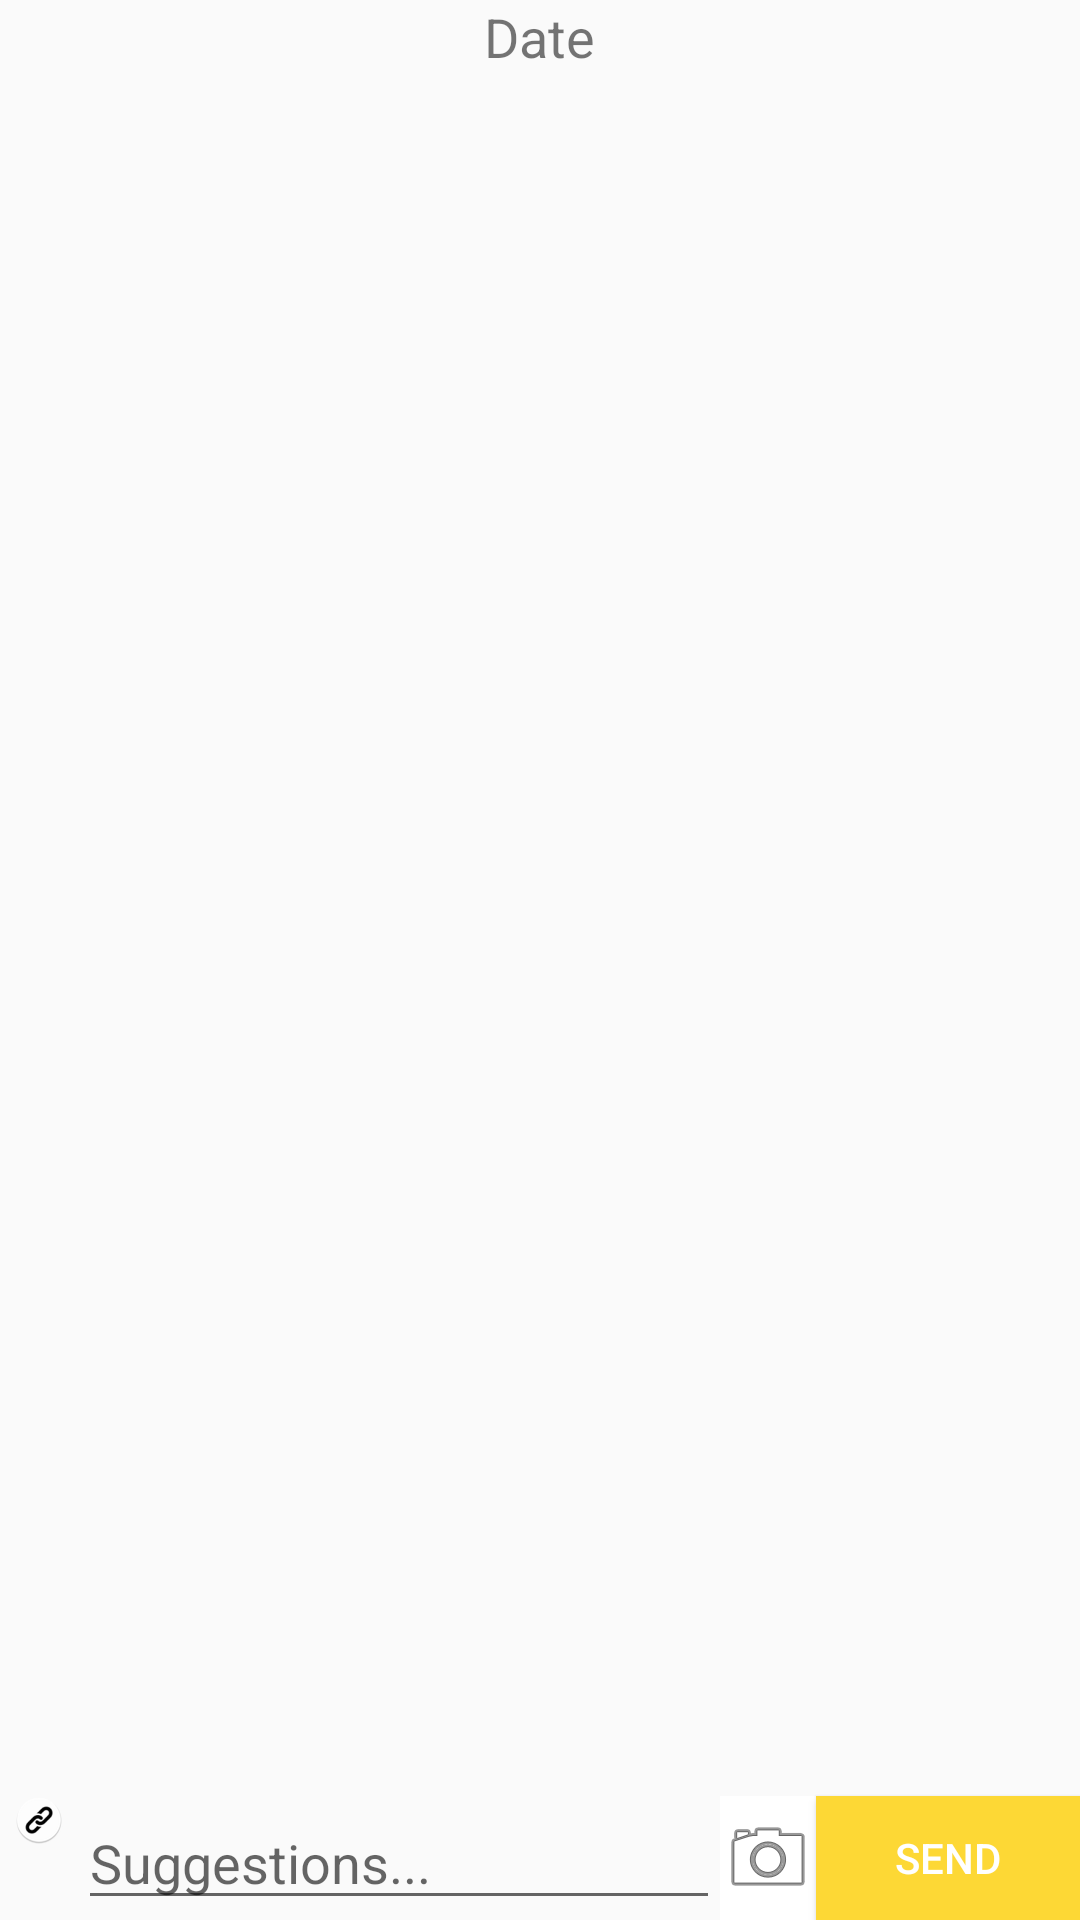

Where icons sit on this 1080x1920 app screen, as [left=x1, top=y1, right=x2, bottom=y2]:
camera: [left=731, top=1827, right=805, bottom=1886]
link round: [left=19, top=1806, right=61, bottom=1843]
